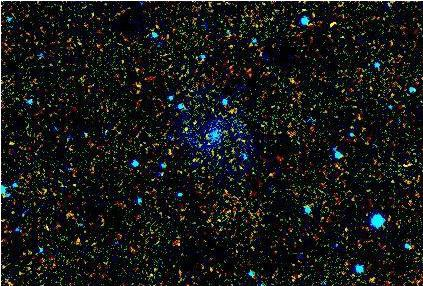star: (215, 99, 245, 129)
